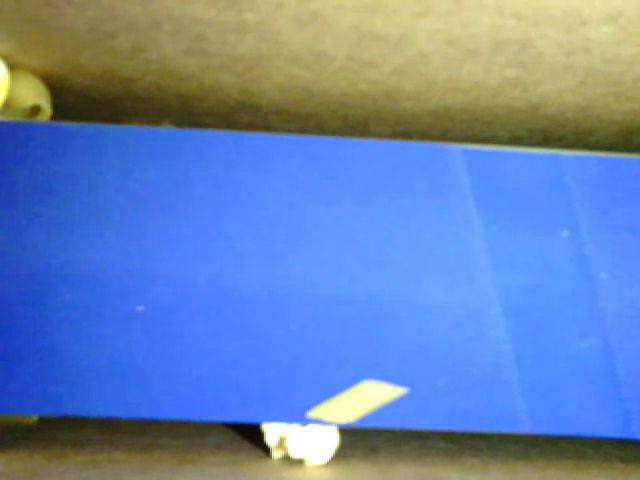penne: (303, 375, 409, 421)
shell: (3, 68, 55, 127)
